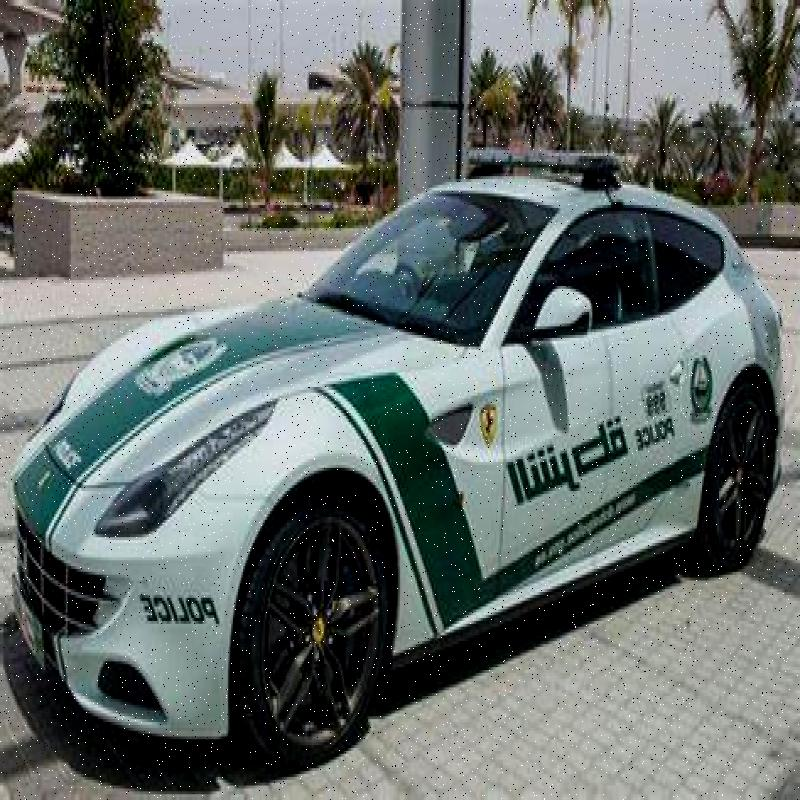AmbulanceSiren: (463, 89, 629, 200)
